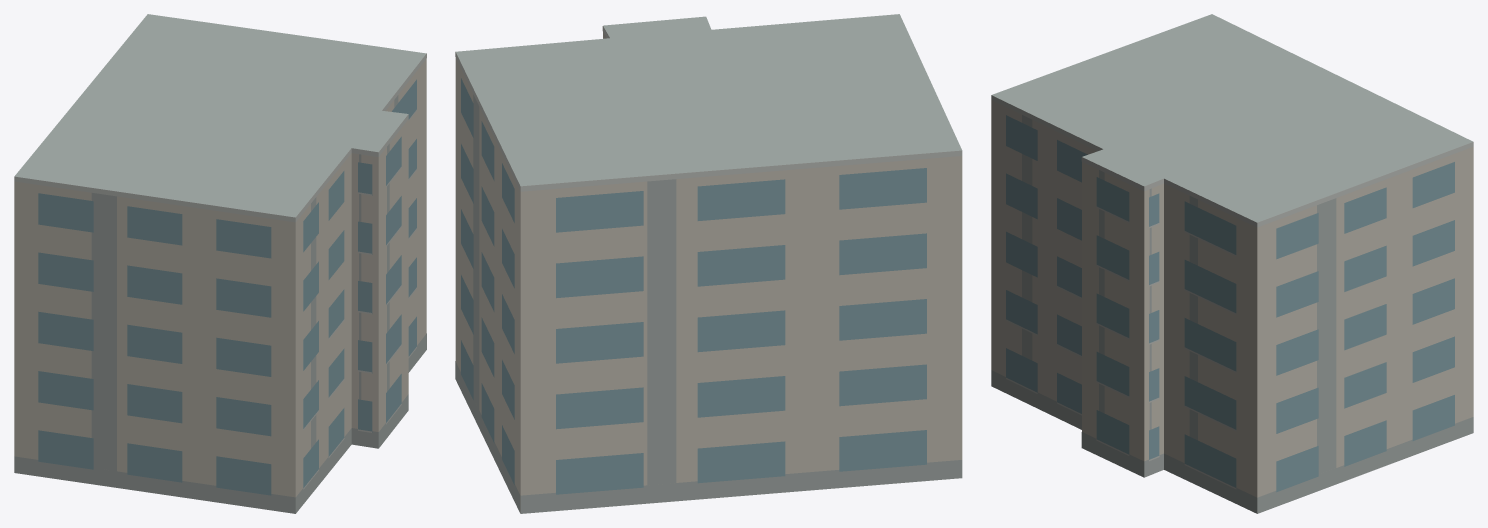
File: survey-upis-32889575.glb
3 renders of one model, left to right at view 1: azimuth 30°, elevation 25°; view 2: azimuth 150°, elevation 25°; view 3: azimuth 270°, elevation 25°, orthographic. The views are drawn at different scales.
Parts seen in each view (by area): view 1: survey-upis-32889575.tmp; view 2: survey-upis-32889575.tmp; view 3: survey-upis-32889575.tmp.
Boxes of the visible parts, x1,y1,x2,y2 form: survey-upis-32889575.tmp: [14, 14, 426, 513]; survey-upis-32889575.tmp: [455, 14, 962, 513]; survey-upis-32889575.tmp: [991, 14, 1473, 513].
Size of the model in its own units: 22.61 by 14.7 by 22.08.
